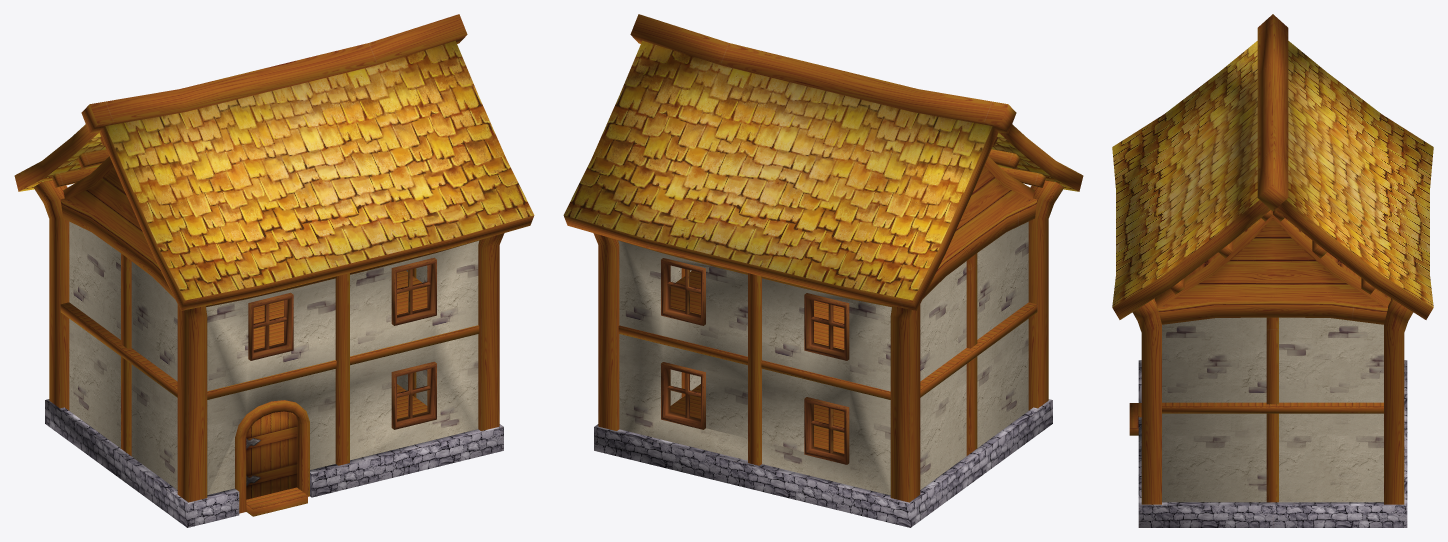
Rendered from home01.fbx.
3 views of the same model, side by side, from view 1: azimuth 30°, elevation 25°; view 2: azimuth 150°, elevation 25°; view 3: azimuth 270°, elevation 25° (orthographic). The views are drawn at different scales.
Parts seen in each view (by area): view 1: home01_wood, home01_wall, home01_ground01, home01_door; view 2: home01_wood, home01_wall, home01_ground01; view 3: home01_wood, home01_wall, home01_ground01.
Boxes of the visible parts, x1,y1,x2,y2 form: home01_wood: (14, 14, 534, 527); home01_wall: (69, 221, 478, 494); home01_ground01: (60, 270, 479, 516); home01_door: (246, 411, 297, 499); home01_wood: (563, 14, 1083, 527); home01_wall: (618, 221, 1028, 495); home01_ground01: (618, 270, 1037, 453); home01_wood: (1112, 14, 1433, 527); home01_wall: (1162, 317, 1383, 502); home01_ground01: (1129, 402, 1383, 435).
Size of the model in its own units: 5241 by 5120 by 4189.
